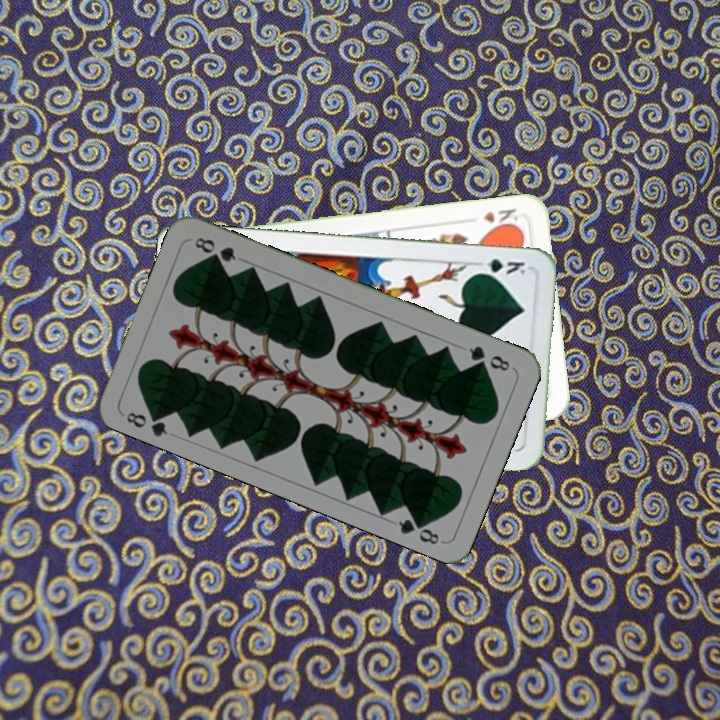G8: (464, 341, 515, 374), (122, 405, 171, 439)
GK: (471, 254, 528, 278)
HK: (479, 204, 520, 231)
